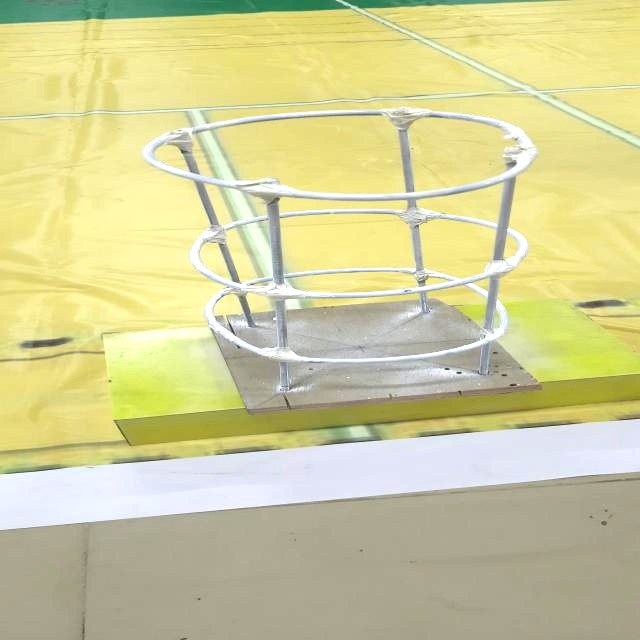silo: (105, 97, 584, 431)
